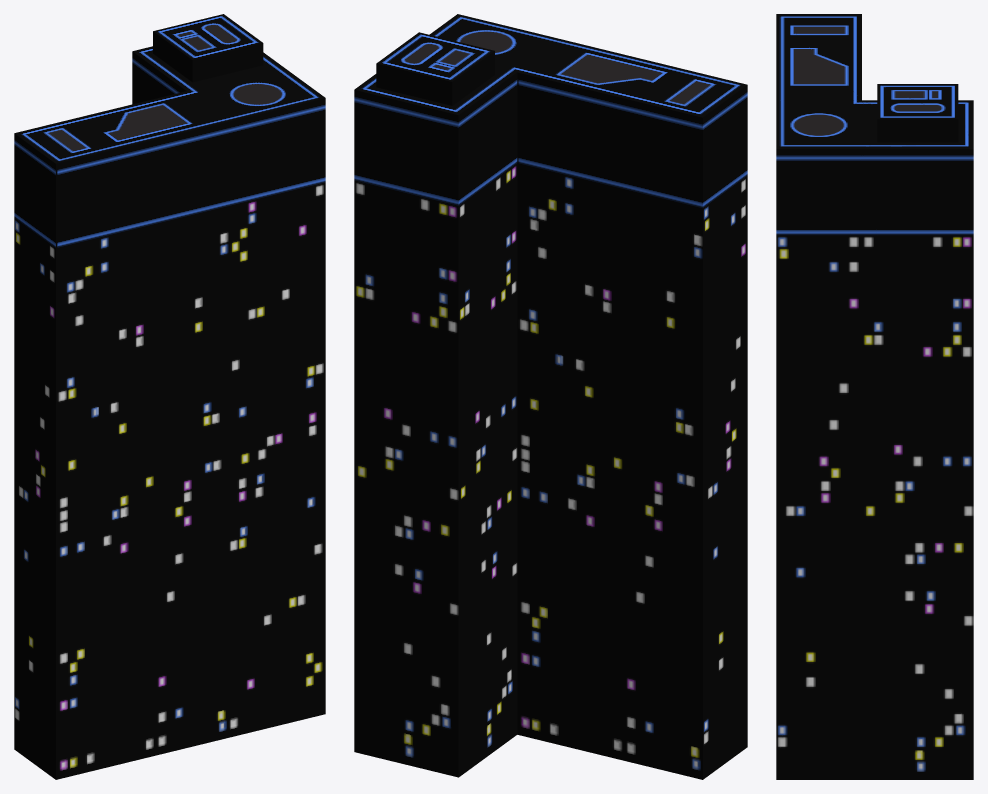
The model's file is bldg_003.fbx.
3 renders of one model, left to right at view 1: azimuth 30°, elevation 25°; view 2: azimuth 150°, elevation 25°; view 3: azimuth 270°, elevation 25°, orthographic. The views are drawn at different scales.
Visible parts, largest first — view 1: bldg_003; view 2: bldg_003; view 3: bldg_003.
Boxes of the visible parts, x1,y1,x2,y2 form: bldg_003: (14,14,325,779); bldg_003: (354,14,747,779); bldg_003: (776,14,973,779).
Bounding box in the file's own units: 269 × 607 × 166.
1 material, 1 textured.
